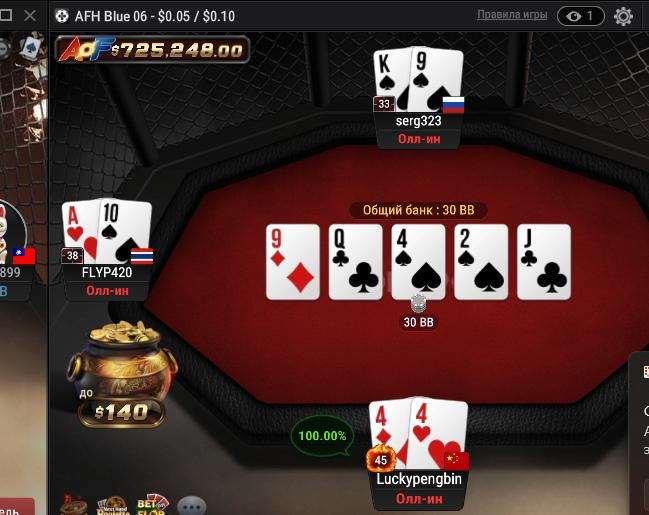10s: (100, 199, 151, 264)
2s: (455, 225, 510, 299)
4d: (369, 399, 409, 469)
4h: (409, 396, 467, 470)
4s: (393, 225, 446, 299)
9d: (267, 225, 321, 301)
9s: (409, 45, 463, 114)
Ah: (60, 199, 99, 266)
Jc: (517, 224, 571, 299)
Ks: (374, 49, 411, 112)
Qc: (329, 224, 381, 300)
